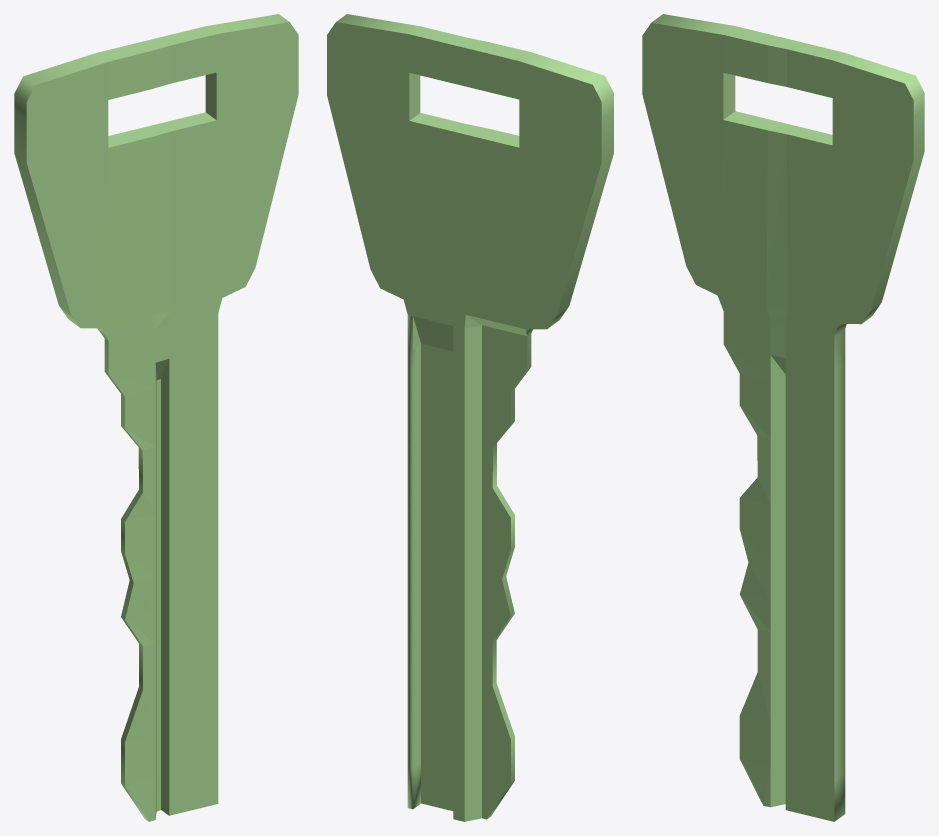
Rendered from Keys_18.FBX.
The picture shows the model from 3 angles, left to right: view 1: azimuth 30°, elevation 25°; view 2: azimuth 150°, elevation 25°; view 3: azimuth 330°, elevation 25°; orthographic projection.
Parts seen in each view (by area): view 1: Keys_18; view 2: Keys_18; view 3: Keys_18.
Boxes of the visible parts, bbox=[...] form: Keys_18: bbox=[14, 14, 298, 821]; Keys_18: bbox=[327, 14, 613, 821]; Keys_18: bbox=[642, 14, 924, 821].
Bounding box in the file's own units: 1.06 × 2.87 × 0.082.
